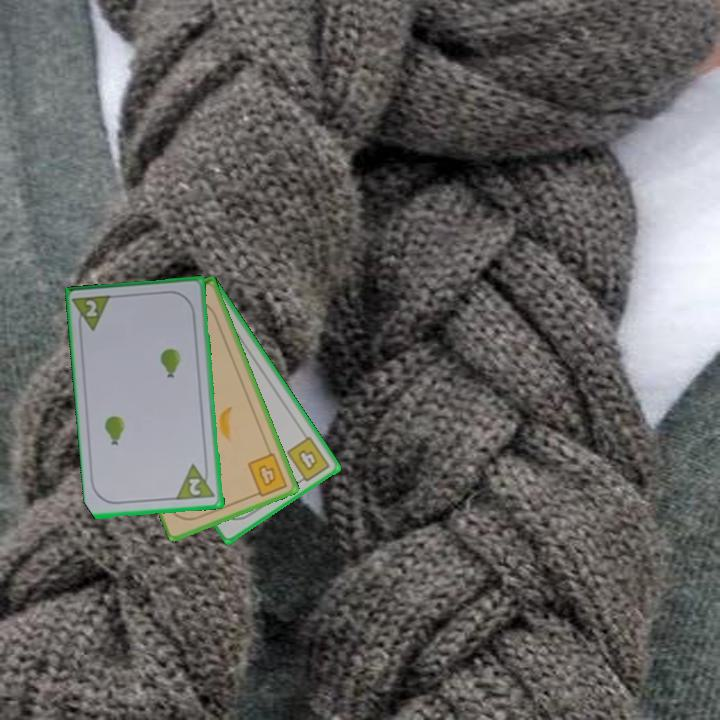2p: (71, 292, 115, 336), (185, 475, 204, 499)
4b: (283, 433, 333, 487), (244, 449, 290, 500)
